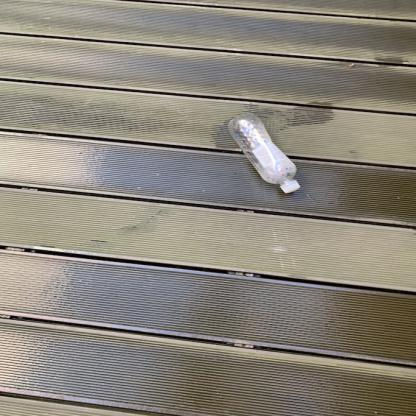plastic-bottles: (223, 119, 309, 196)
